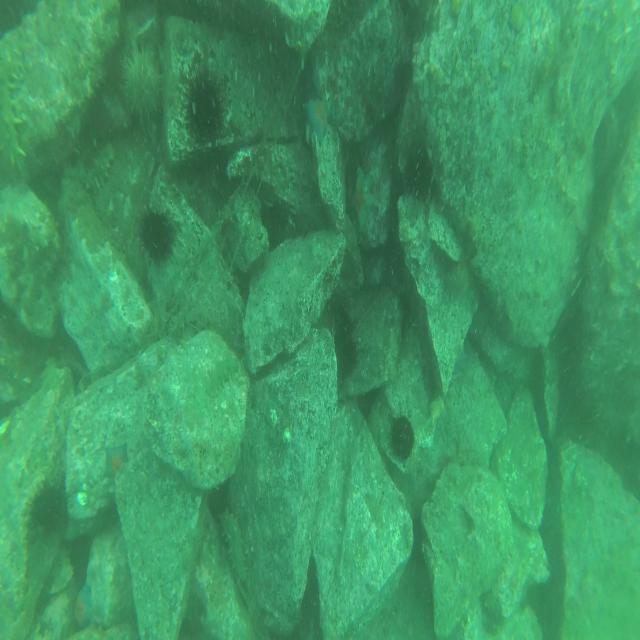echinus: (177, 53, 233, 154), (114, 37, 166, 140), (130, 208, 182, 270), (22, 481, 67, 549), (406, 135, 440, 208), (386, 404, 418, 472), (331, 334, 362, 382)
holothurian: (0, 54, 28, 169), (215, 506, 251, 587), (200, 353, 245, 404), (82, 146, 116, 197)
starfish: (102, 439, 130, 484), (71, 581, 95, 632)
